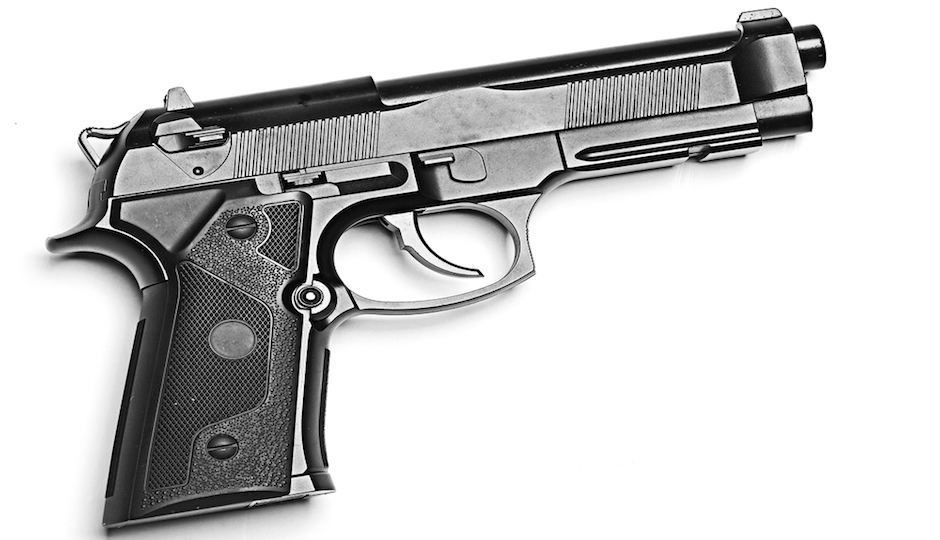gun: (43, 5, 829, 540)
